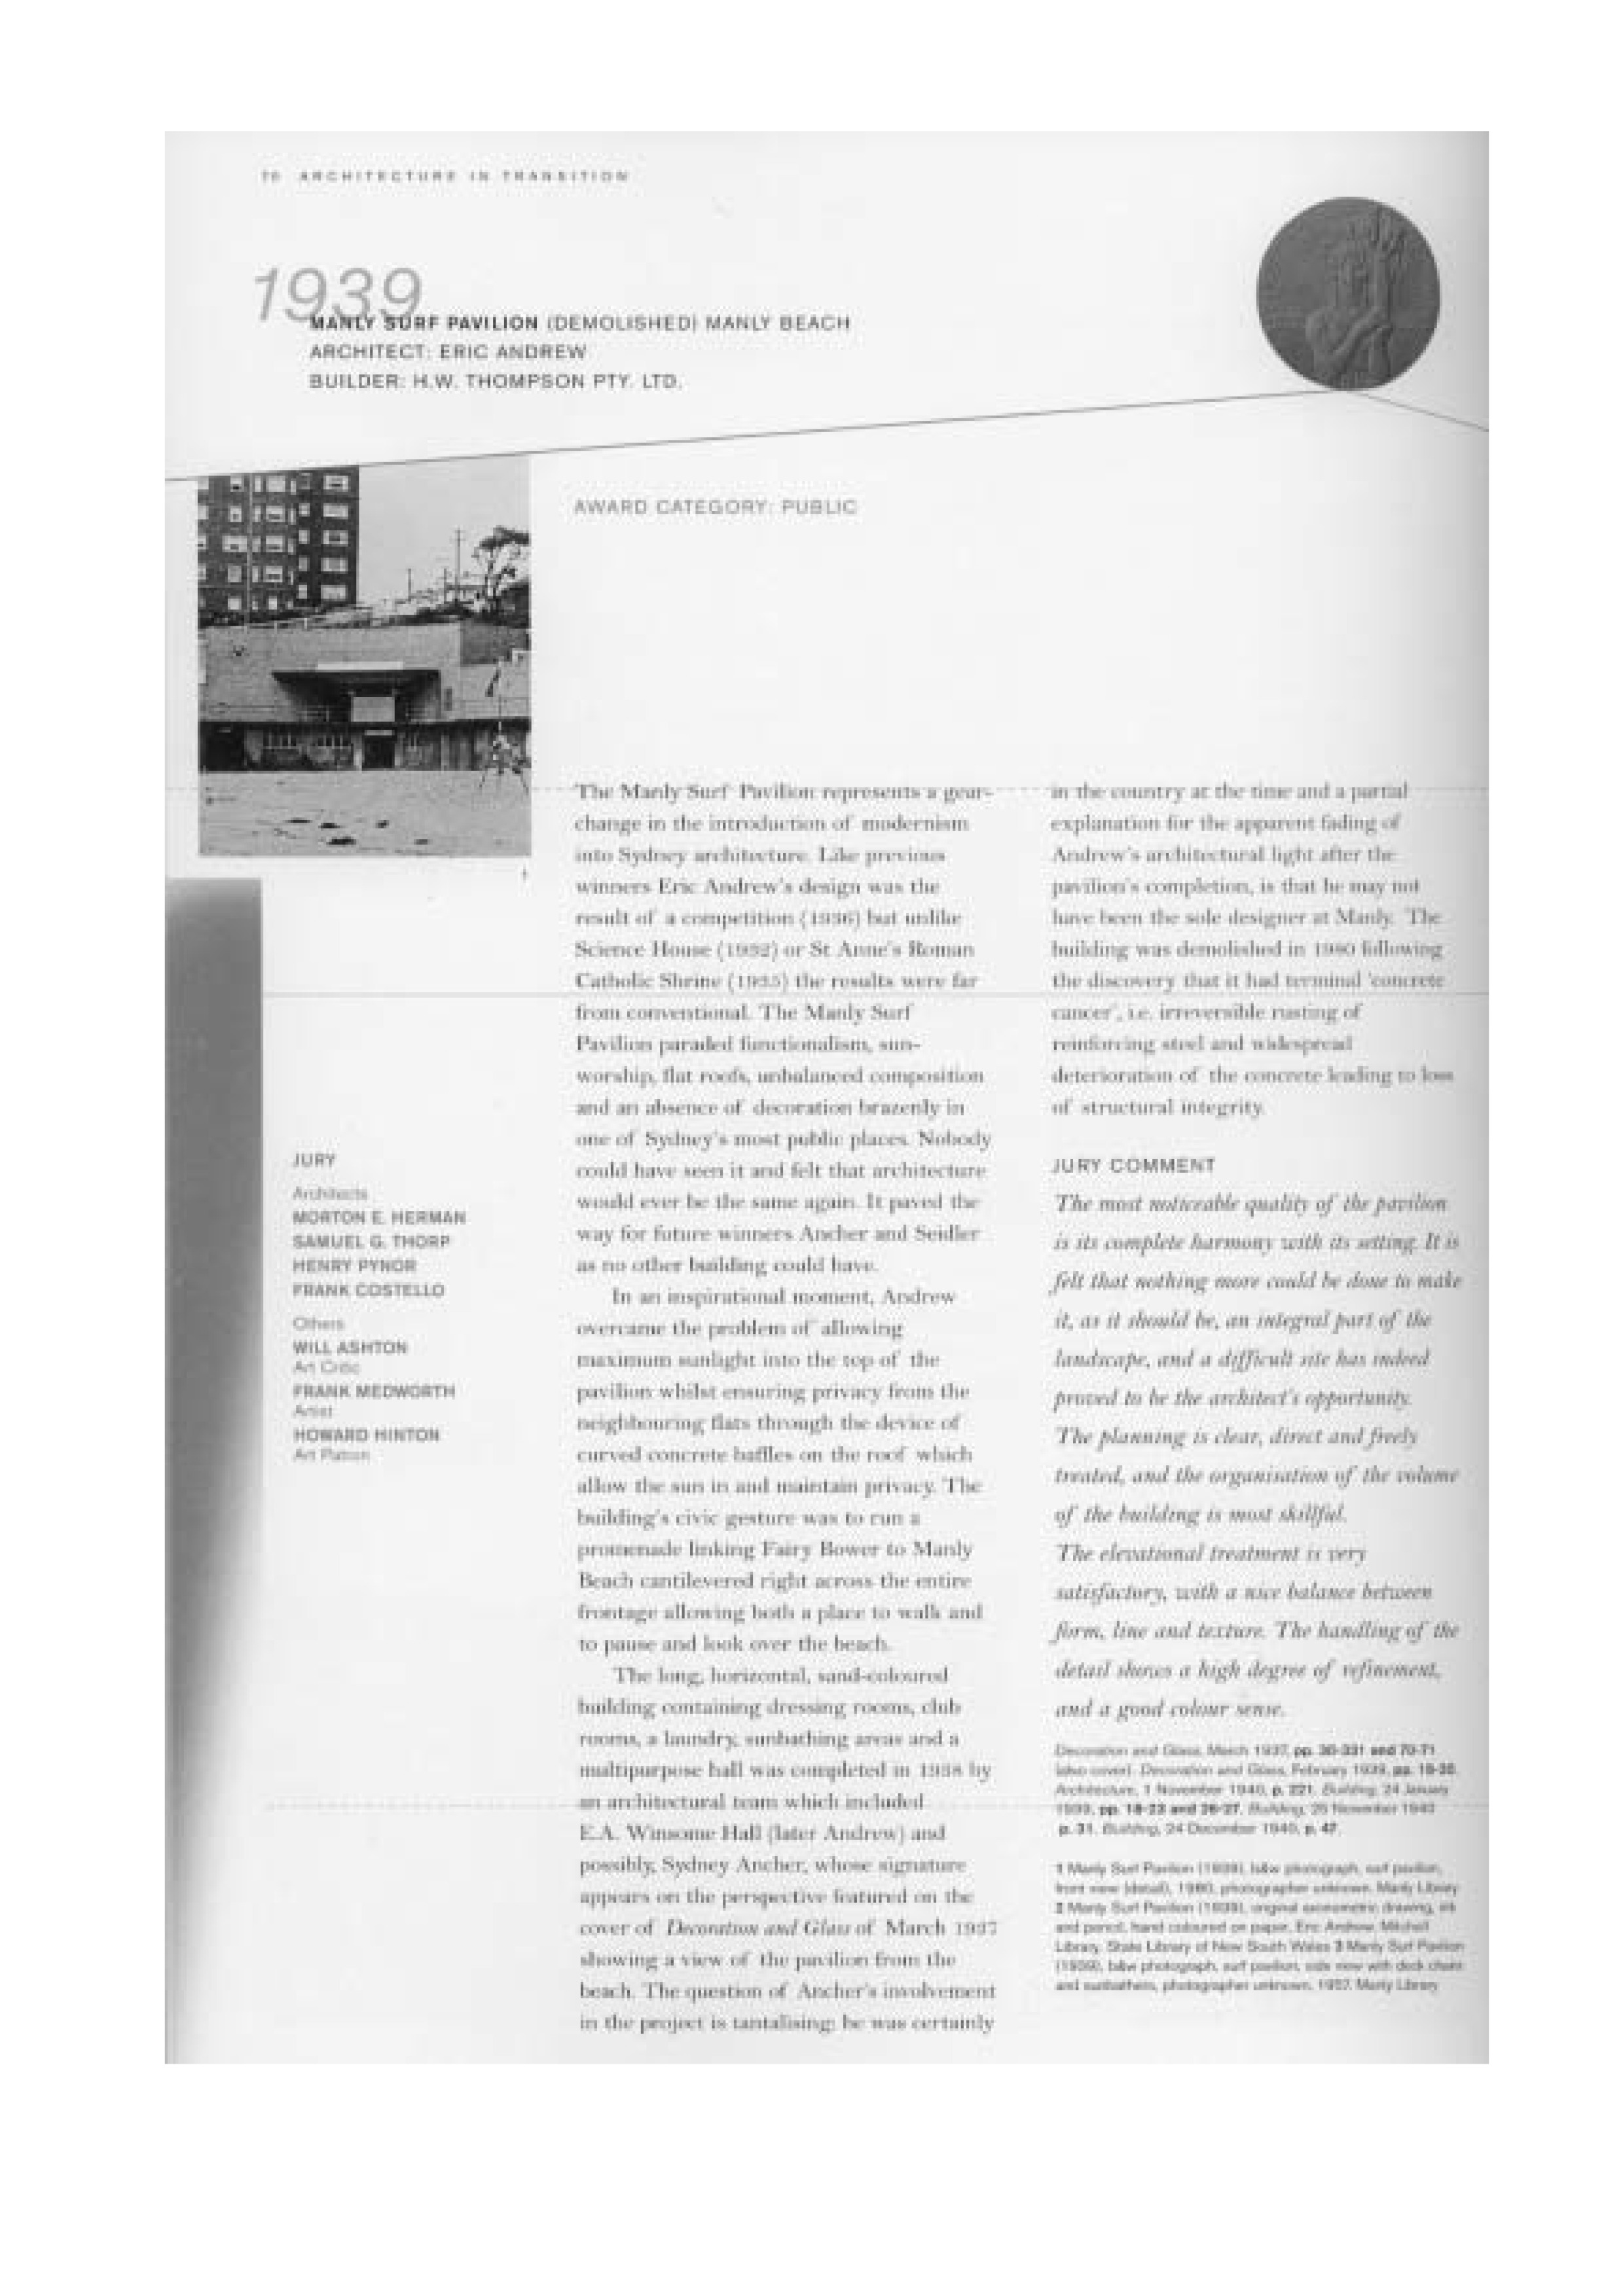figure: (184, 458, 532, 867), (1247, 193, 1426, 398)
section: (1052, 1157, 1228, 1183)
text: (1049, 1204, 1467, 1713), (580, 785, 978, 1278), (571, 1676, 987, 2040), (574, 1292, 978, 1662), (1042, 795, 1444, 1120), (1056, 1854, 1481, 1996), (314, 311, 850, 395), (1049, 1743, 1456, 1834), (290, 1318, 455, 1459), (290, 1190, 472, 1297), (260, 161, 634, 193), (249, 263, 429, 326), (576, 491, 866, 523), (293, 1146, 344, 1174)
